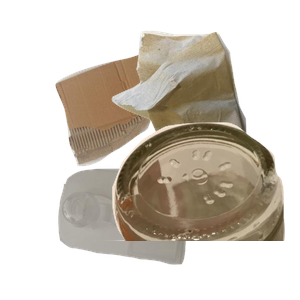cardboard: (53, 45, 221, 204)
glass: (89, 120, 300, 300)
plastic: (56, 166, 241, 300)
trash: (109, 28, 300, 208)
